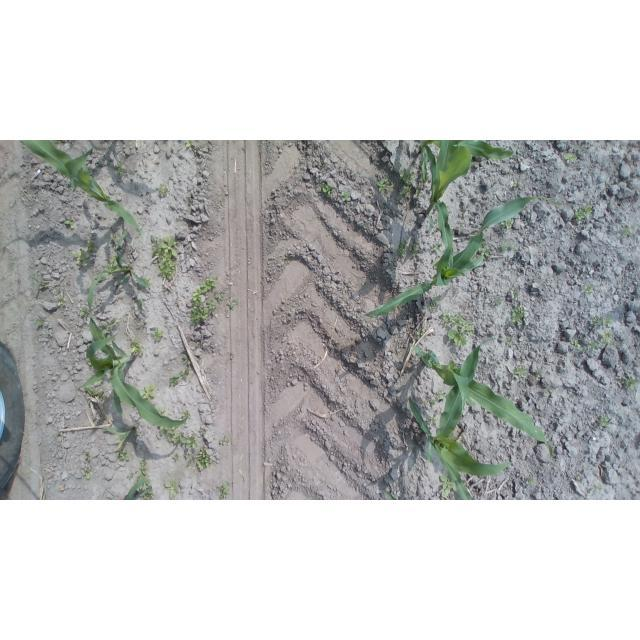Maize: (363, 195, 564, 319), (412, 338, 554, 463), (20, 141, 146, 244), (79, 317, 190, 427), (408, 396, 513, 501), (87, 228, 153, 317), (424, 140, 472, 233), (419, 141, 515, 184), (105, 425, 134, 452), (124, 477, 150, 500), (383, 488, 398, 500)
Weeds: (190, 277, 225, 325), (152, 234, 179, 281), (440, 310, 474, 346), (160, 425, 199, 449), (72, 240, 96, 268), (185, 448, 213, 470), (588, 331, 614, 351), (399, 168, 415, 197), (170, 368, 191, 387), (440, 475, 457, 498), (396, 239, 416, 258), (86, 386, 105, 405), (575, 203, 594, 221), (165, 480, 182, 500), (139, 383, 157, 400), (140, 481, 156, 500), (216, 480, 230, 500), (376, 176, 392, 193), (431, 390, 447, 407), (511, 307, 525, 326), (130, 340, 145, 357), (101, 318, 116, 335), (512, 366, 528, 381), (621, 376, 639, 389), (32, 277, 47, 292), (478, 242, 492, 257), (563, 152, 578, 165), (139, 460, 148, 480), (593, 316, 613, 325), (152, 327, 164, 341), (320, 182, 332, 196), (116, 451, 130, 462), (501, 219, 516, 229), (228, 296, 239, 308), (450, 432, 461, 444), (57, 296, 70, 306), (158, 184, 168, 197), (115, 162, 124, 175), (571, 338, 582, 348), (341, 191, 351, 202), (64, 220, 76, 229), (601, 414, 610, 426), (36, 316, 44, 329), (184, 140, 197, 148), (82, 469, 91, 480), (432, 292, 440, 304), (623, 228, 633, 237), (182, 355, 190, 366), (526, 477, 537, 485), (80, 307, 88, 317), (416, 328, 425, 336), (546, 387, 554, 396), (584, 285, 593, 293), (429, 416, 437, 425), (85, 451, 92, 461), (107, 263, 113, 274), (182, 412, 190, 420), (434, 244, 441, 253), (158, 408, 165, 416), (173, 453, 180, 461), (144, 279, 152, 286), (136, 299, 144, 306), (110, 232, 117, 240), (535, 372, 543, 379), (501, 244, 507, 253), (53, 432, 60, 439), (593, 485, 600, 492), (514, 181, 521, 188), (220, 440, 229, 445), (127, 473, 134, 479), (496, 300, 503, 306), (88, 358, 93, 366), (195, 342, 201, 348), (283, 254, 289, 260), (507, 340, 513, 345), (514, 291, 519, 297), (128, 141, 137, 144), (20, 162, 25, 167), (416, 192, 421, 197), (428, 306, 433, 311), (55, 290, 59, 295), (70, 188, 74, 193), (55, 141, 61, 144), (576, 476, 580, 480)
